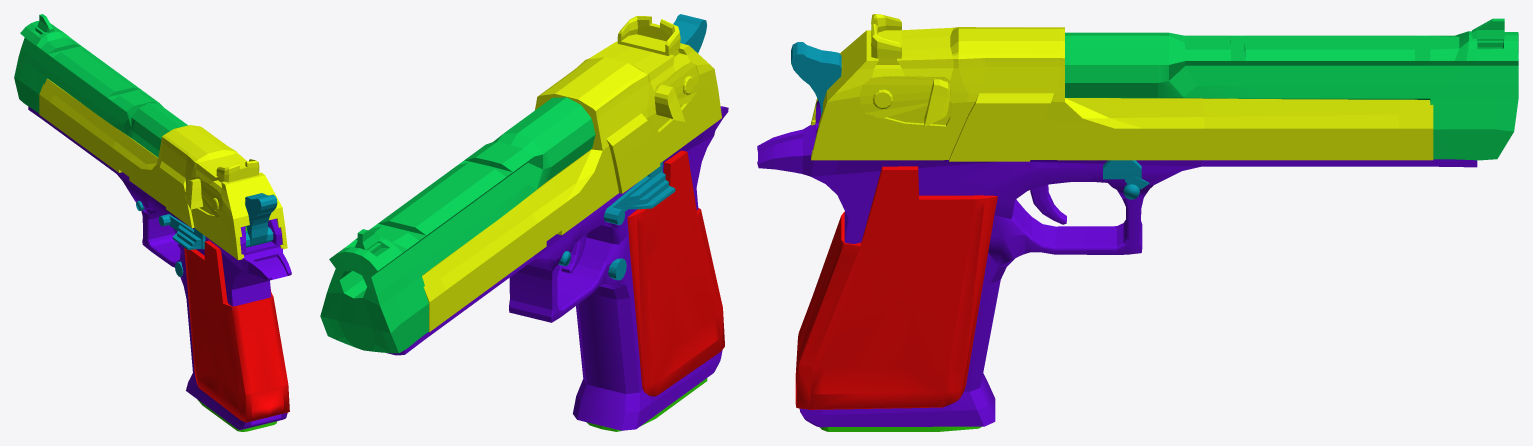
File: Desertt Eaglee_5Low PolyV3 FINAL.fbx
3 views of the same model, side by side, from view 1: azimuth 30°, elevation 25°; view 2: azimuth 150°, elevation 25°; view 3: azimuth 270°, elevation 25° (orthographic). The views are drawn at different scales.
Visible parts, largest first — view 1: Gun Hammer_low, Grip_low, Barrel_low, Desert Eagle Handle_low, Gun Cock_low, Safety Lock_low; view 2: Gun Hammer_low, Barrel_low, Desert Eagle Handle_low, Grip_low, Safety Lock_low, Gun Cock_low; view 3: Gun Hammer_low, Grip_low, Barrel_low, Desert Eagle Handle_low, Gun Cock_low, Safety Lock_low, Mag or Clip_low.
Boxes of the visible parts, left/top/right/bottom form: Gun Hammer_low: left=39, top=78, right=287, bottom=260; Grip_low: left=184, top=240, right=289, bottom=422; Barrel_low: left=14, top=14, right=187, bottom=157; Desert Eagle Handle_low: left=28, top=106, right=291, bottom=429; Gun Cock_low: left=245, top=193, right=277, bottom=247; Safety Lock_low: left=136, top=200, right=205, bottom=249; Gun Hammer_low: left=422, top=16, right=721, bottom=331; Barrel_low: left=320, top=97, right=595, bottom=353; Desert Eagle Handle_low: left=387, top=106, right=728, bottom=430; Grip_low: left=627, top=150, right=724, bottom=396; Safety Lock_low: left=558, top=161, right=675, bottom=266; Gun Cock_low: left=673, top=14, right=706, bottom=53; Gun Hammer_low: left=811, top=14, right=1433, bottom=161; Grip_low: left=795, top=166, right=997, bottom=409; Barrel_low: left=1065, top=18, right=1518, bottom=160; Desert Eagle Handle_low: left=757, top=100, right=1477, bottom=427; Gun Cock_low: left=791, top=42, right=841, bottom=115; Safety Lock_low: left=1103, top=160, right=1149, bottom=199; Mag or Clip_low: left=819, top=426, right=981, bottom=431.
Bounding box in the file's own units: 152 × 513 × 893.
